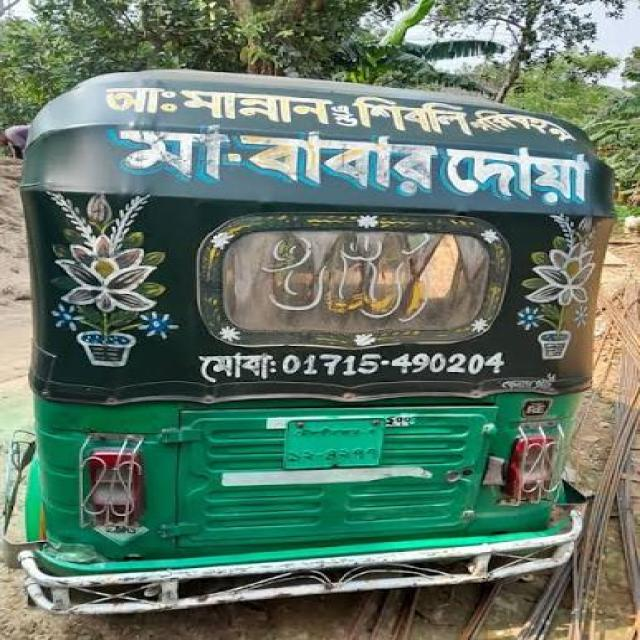CNG: (11, 66, 638, 633)
